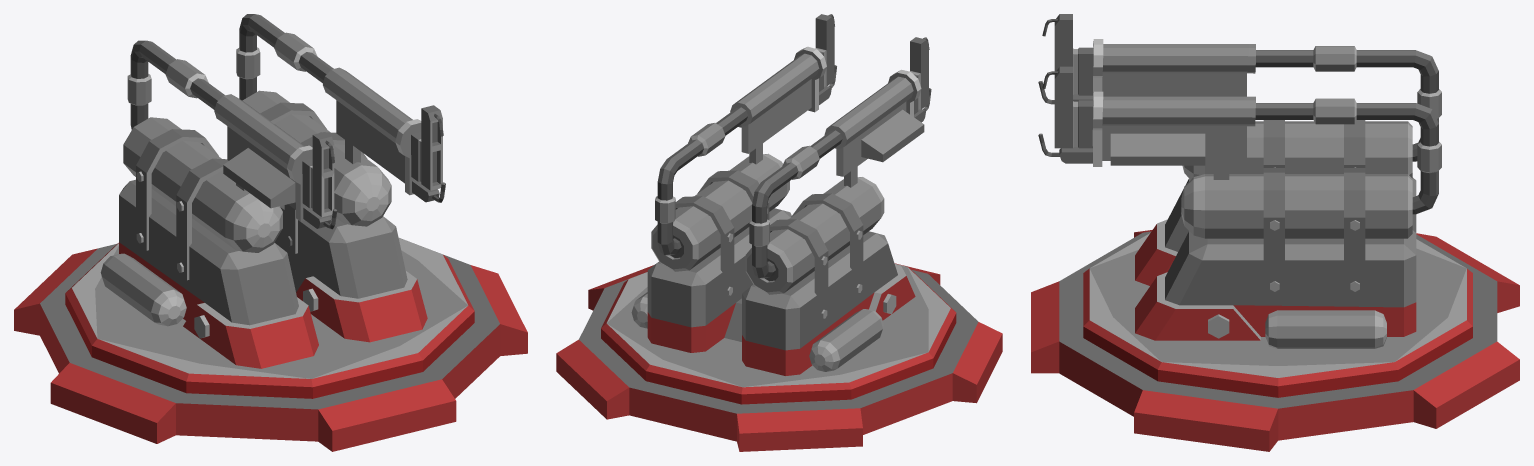
The model's file is tower_napalm_red_3.fbx.
The picture shows the model from 3 angles, left to right: view 1: azimuth 30°, elevation 25°; view 2: azimuth 150°, elevation 25°; view 3: azimuth 270°, elevation 25°; orthographic projection. The views are drawn at different scales.
Visible parts, largest first — view 1: top_napalm_red_3, tower_napalm_red_3; view 2: top_napalm_red_3, tower_napalm_red_3; view 3: top_napalm_red_3, tower_napalm_red_3.
Part boxes in pixels (box(x1,y1,x2,y2)): top_napalm_red_3: box(100, 14, 445, 368); tower_napalm_red_3: box(14, 238, 527, 451); top_napalm_red_3: box(631, 14, 931, 375); tower_napalm_red_3: box(556, 263, 1002, 451); top_napalm_red_3: box(1038, 14, 1441, 348); tower_napalm_red_3: box(1031, 230, 1519, 451).
Bounding box in the file's own units: 190 × 122 × 181.
